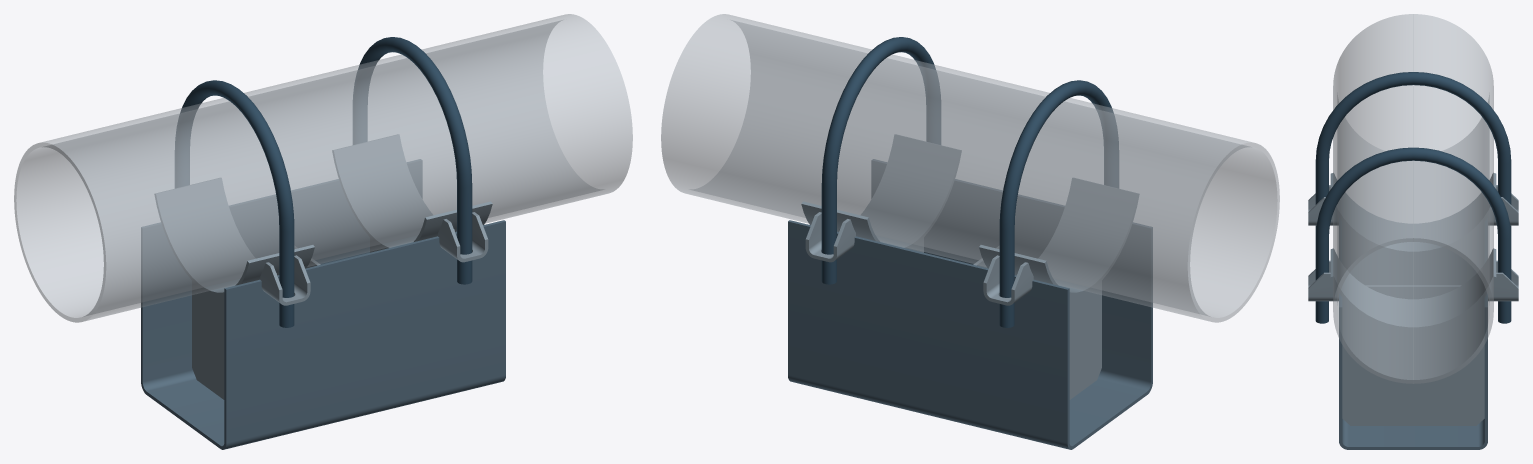
The model's file is TS-626.00.000-037-opora-dn194-H150-L340.glb.
3 views of the same model, side by side, from view 1: azimuth 30°, elevation 25°; view 2: azimuth 150°, elevation 25°; view 3: azimuth 270°, elevation 25° (orthographic). The views are drawn at different scales.
Visible parts, largest first — view 1: truba, skoba_0, podushka_4, podushka_5, homut_1, homut_0, rebro4_1, ushko_7, ushko_9; view 2: truba, skoba_0, podushka_4, podushka_5, homut_1, homut_0, rebro4_1, ushko_6, ushko_8; view 3: truba, rebro4_2, homut_1, rebro4_1, podushka_5, skoba_0, homut_0, podushka_4, rebro5_3, ushko_8, ushko_9, ushko_6 (+1 smaller).
Boxes of the visible parts, <box> form: truba: <box>14,14,632,322</box>; skoba_0: <box>141,159,505,449</box>; podushka_4: <box>154,178,314,296</box>; podushka_5: <box>332,134,492,248</box>; homut_1: <box>353,37,472,284</box>; homut_0: <box>175,80,294,327</box>; rebro4_1: <box>192,273,276,399</box>; ushko_7: <box>260,255,310,305</box>; ushko_9: <box>438,212,488,262</box>; truba: <box>661,14,1279,322</box>; skoba_0: <box>788,159,1152,449</box>; podushka_4: <box>979,178,1139,296</box>; podushka_5: <box>801,134,961,248</box>; homut_1: <box>821,37,940,284</box>; homut_0: <box>999,80,1118,327</box>; rebro4_1: <box>1017,273,1101,399</box>; ushko_6: <box>983,255,1033,305</box>; ushko_8: <box>805,212,855,262</box>; truba: <box>1333,14,1493,383</box>; rebro4_2: <box>1342,298,1484,425</box>; homut_1: <box>1315,147,1511,323</box>; rebro4_1: <box>1342,223,1484,285</box>; podushka_5: <box>1330,248,1496,330</box>; skoba_0: <box>1339,218,1487,449</box>; homut_0: <box>1315,72,1511,234</box>; podushka_4: <box>1330,173,1496,254</box>; rebro5_3: <box>1365,285,1461,299</box>; ushko_8: <box>1488,260,1518,301</box>; ushko_9: <box>1308,260,1338,301</box>; ushko_6: <box>1488,185,1518,225</box>.
Bounding box in the file's own units: 640 × 373 × 254.
